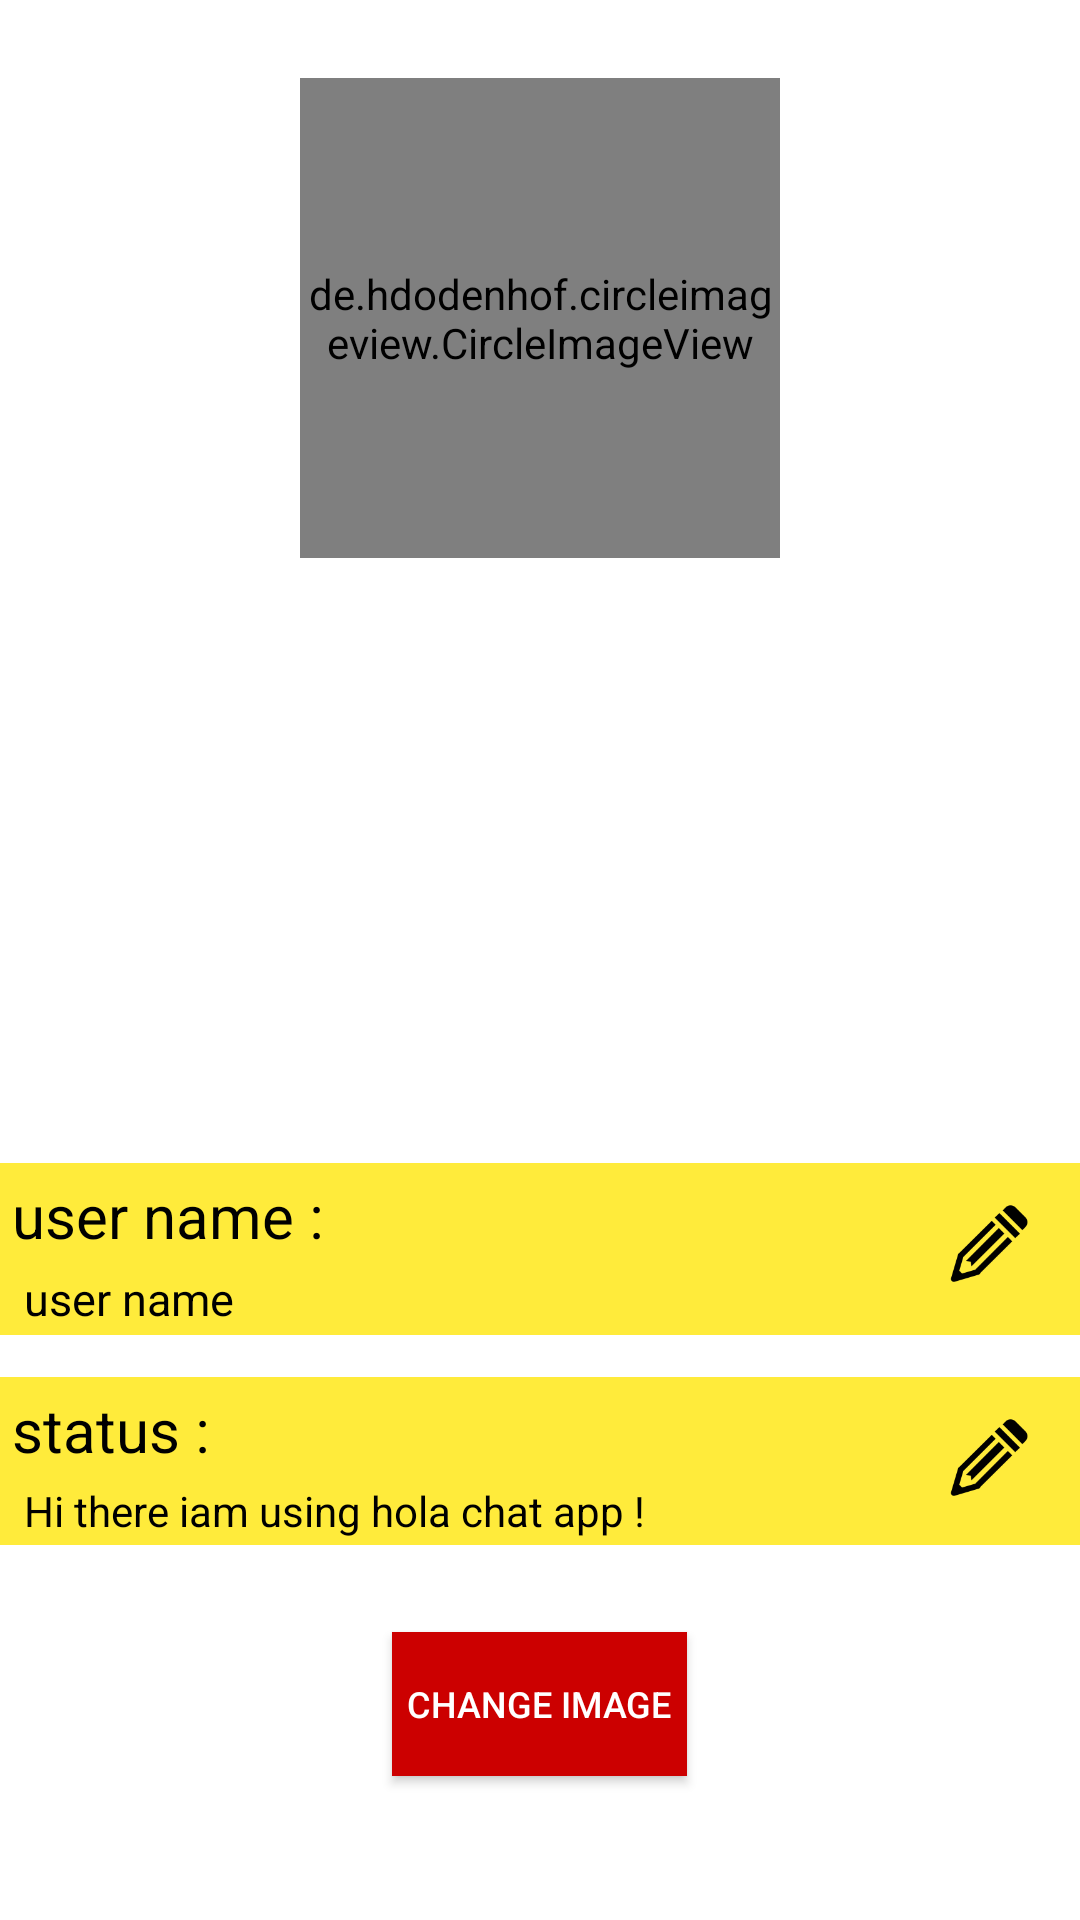

Named icons in this screenshot (1080x1920) and their centers, [x,y]:
pen: [989,1243], [989,1457]
